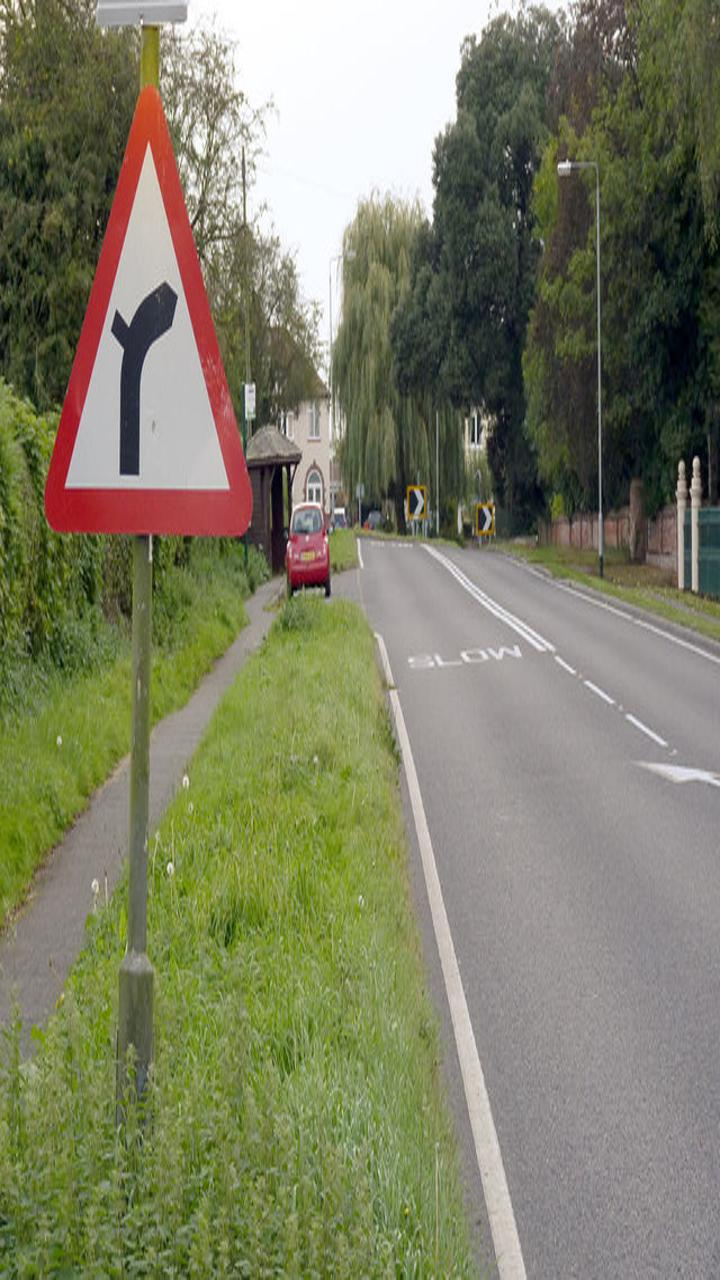Traffic sign: (32, 104, 262, 565)
vehicle: (283, 503, 336, 592)
